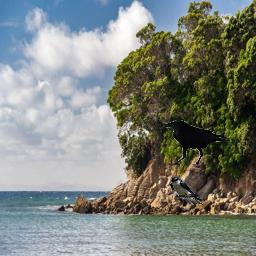Crow: (163, 120, 232, 166)
Swallow: (170, 177, 203, 205)
